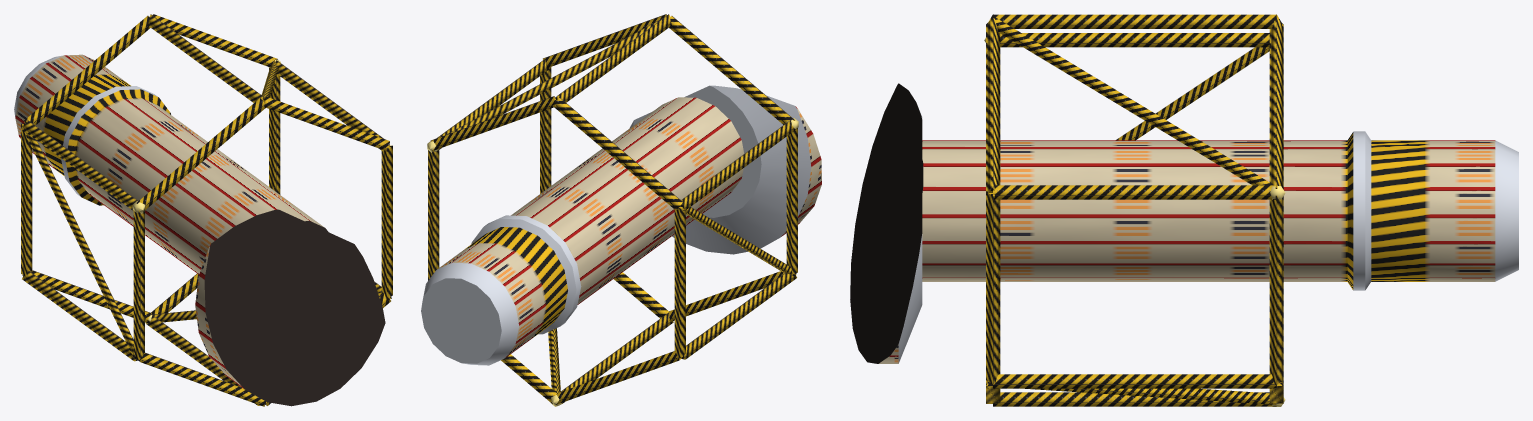
Rendered from manufacturing_center_build2_debris1.obj.
The picture shows the model from 3 angles, left to right: view 1: azimuth 30°, elevation 25°; view 2: azimuth 150°, elevation 25°; view 3: azimuth 270°, elevation 25°; orthographic projection. The views are drawn at different scales.
Parts seen in each view (by area): view 1: spine, smelter2, girder, post, brace; view 2: spine, girder, smelter2, post, brace; view 3: spine, post, smelter2, girder, brace.
Boxes of the visible parts, x1,y1,x2,y2 form: spine: [14, 54, 343, 337]; smelter2: [195, 209, 385, 406]; girder: [21, 14, 392, 406]; post: [22, 14, 391, 405]; brace: [22, 60, 382, 357]; spine: [421, 97, 744, 365]; girder: [428, 14, 797, 404]; smelter2: [629, 85, 821, 254]; post: [437, 14, 797, 404]; brace: [445, 18, 794, 392]; spine: [877, 131, 1518, 290]; post: [993, 14, 1276, 406]; smelter2: [850, 83, 922, 363]; girder: [986, 14, 1283, 403]; brace: [995, 17, 1276, 404].
Size of the model in its own units: 63.72 by 73.27 by 113.
5 materials, 2 textured.
